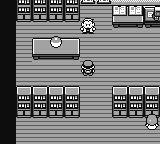leer: (113, 7, 143, 27), (144, 8, 160, 27), (82, 0, 111, 5)
main: (80, 61, 96, 76)
no-caminable: (1, 1, 16, 143), (18, 88, 78, 117), (113, 87, 160, 117), (17, 0, 78, 20), (33, 39, 79, 60), (112, 0, 160, 6)
npc: (80, 19, 96, 34), (145, 114, 159, 129)
poke-ball: (50, 36, 62, 47)
